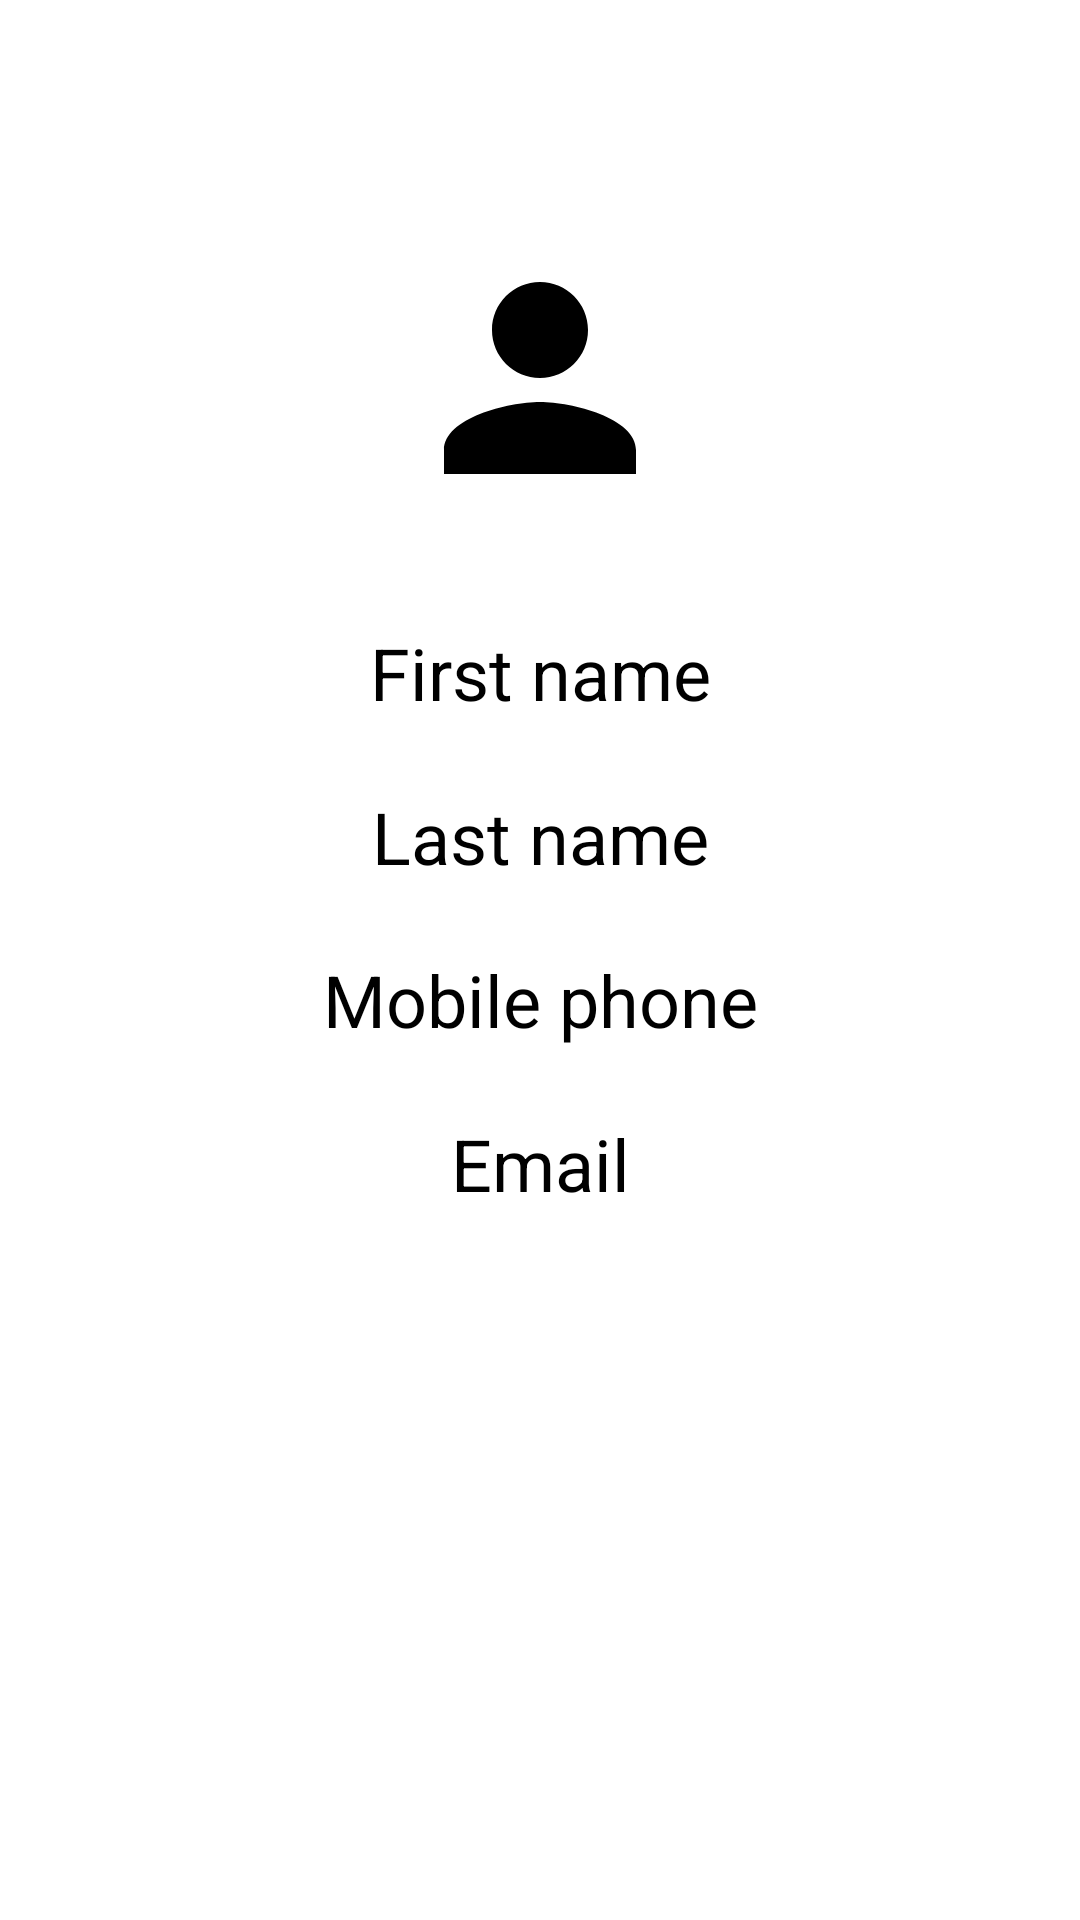

Icons on this 1080 x 1920 Android screen, each with the point to tap as (x=x, y=y):
profile: (x=540, y=378)
